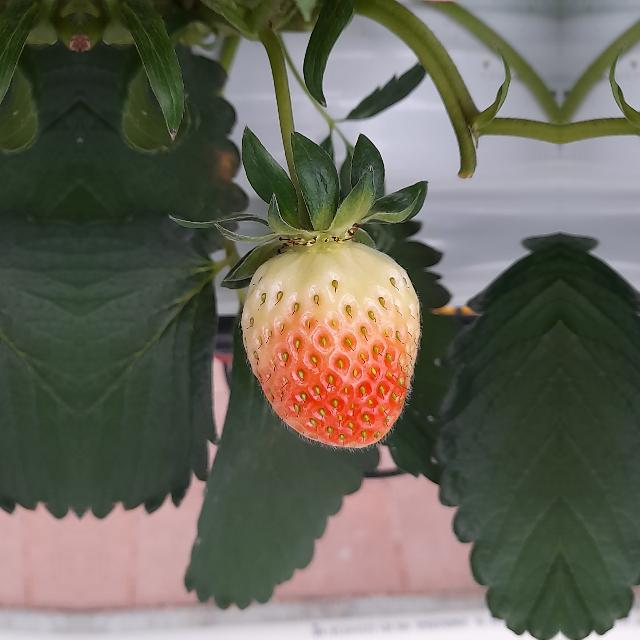Health_75: (241, 241, 419, 447)
